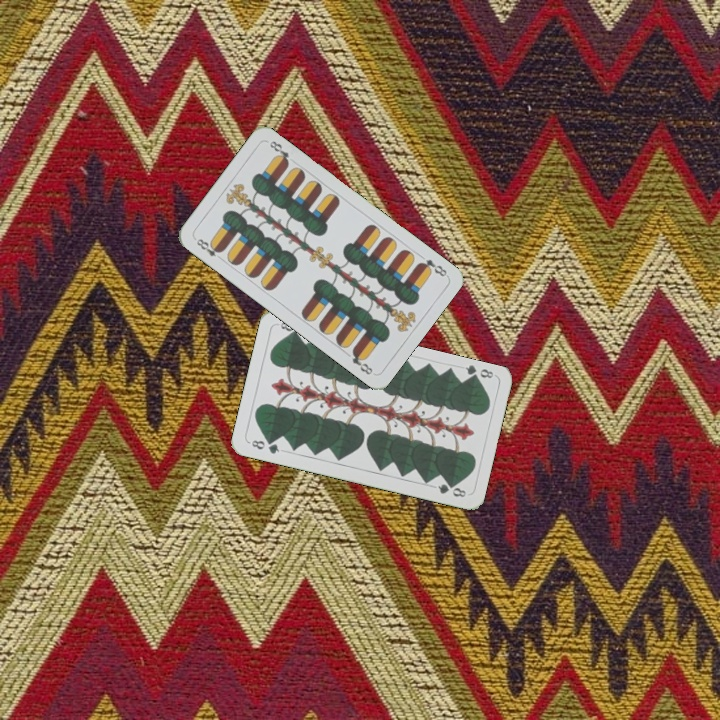E8: (192, 235, 226, 263), (414, 255, 450, 279)
G8: (461, 361, 498, 384), (245, 436, 282, 457)
